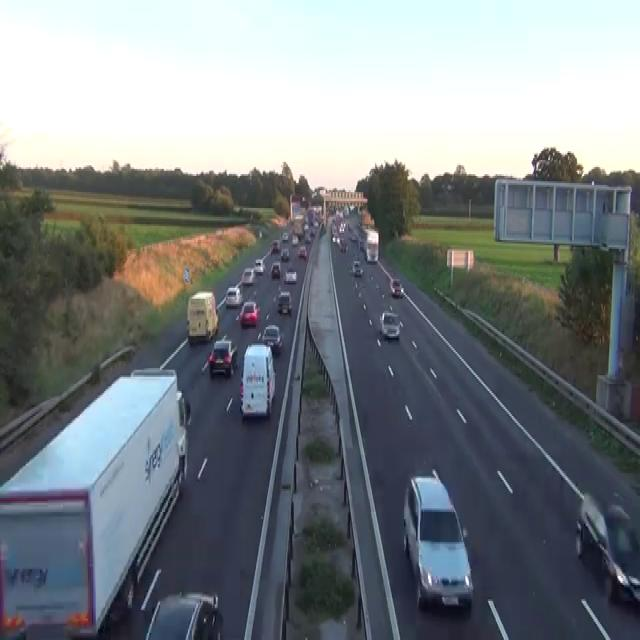Car: (402, 469, 473, 612), (574, 492, 639, 606), (130, 366, 189, 482), (144, 590, 222, 638), (0, 542, 27, 638), (574, 492, 608, 562), (208, 334, 237, 377), (175, 389, 188, 480), (258, 324, 283, 356), (379, 310, 401, 340), (0, 614, 26, 638), (237, 301, 260, 327), (225, 284, 242, 308), (277, 290, 292, 314), (389, 277, 404, 297), (241, 266, 255, 284), (284, 265, 297, 283), (352, 258, 363, 276), (365, 246, 377, 262), (270, 261, 280, 279), (253, 258, 264, 274), (298, 243, 307, 260), (270, 238, 280, 252), (280, 247, 289, 260), (339, 237, 348, 250), (350, 229, 357, 242), (358, 237, 365, 250), (354, 265, 363, 275), (352, 258, 360, 268), (339, 220, 345, 233), (304, 231, 311, 242), (291, 235, 298, 245), (332, 233, 339, 243), (282, 231, 288, 242), (309, 226, 315, 234), (303, 222, 308, 231), (258, 230, 262, 237)
Truck: (0, 366, 188, 638), (239, 342, 276, 419), (186, 290, 218, 345), (364, 230, 378, 262)
